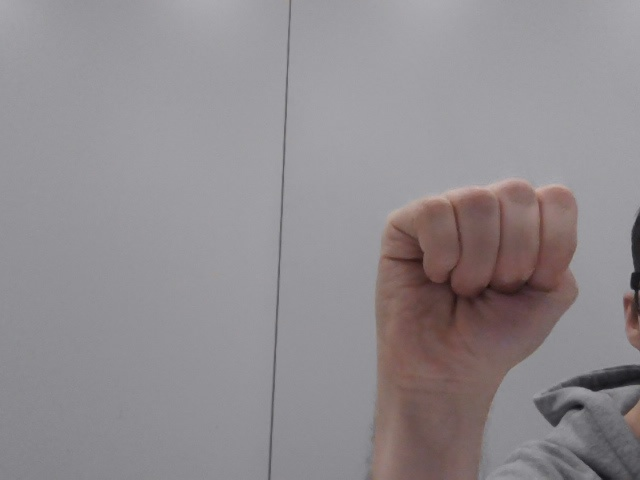down: (357, 153, 585, 408)
